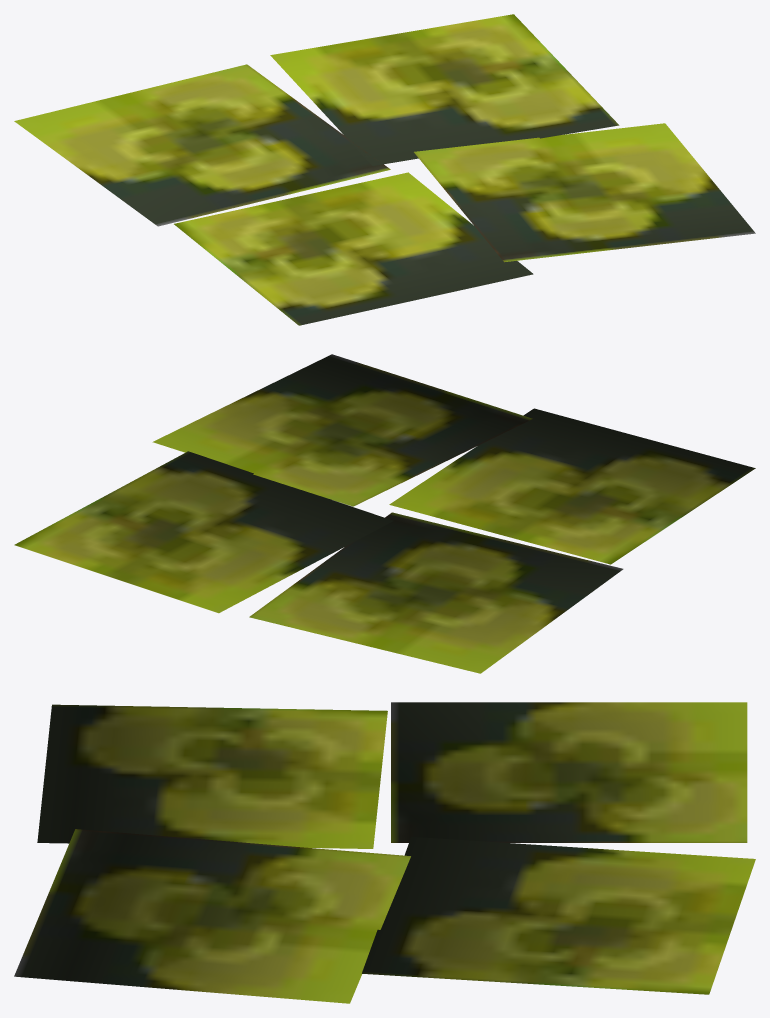
Rendered from fg_grassE.dae.
3 renders of one model, top to bottom at view 1: azimuth 30°, elevation 25°; view 2: azimuth 150°, elevation 25°; view 3: azimuth 270°, elevation 25°, orthographic. The views are drawn at different scales.
Parts seen in each view (by area): view 1: fg_grassE; view 2: fg_grassE; view 3: fg_grassE.
Part boxes in pixels (x1=…): fg_grassE: x1=14, y1=14, x2=755, y2=325; fg_grassE: x1=14, y1=354, x2=755, y2=673; fg_grassE: x1=14, y1=702, x2=755, y2=1003.
Size of the model in its own units: 23.5 by 0.3916 by 24.87.
Materials: 1 (1 with a texture image).
